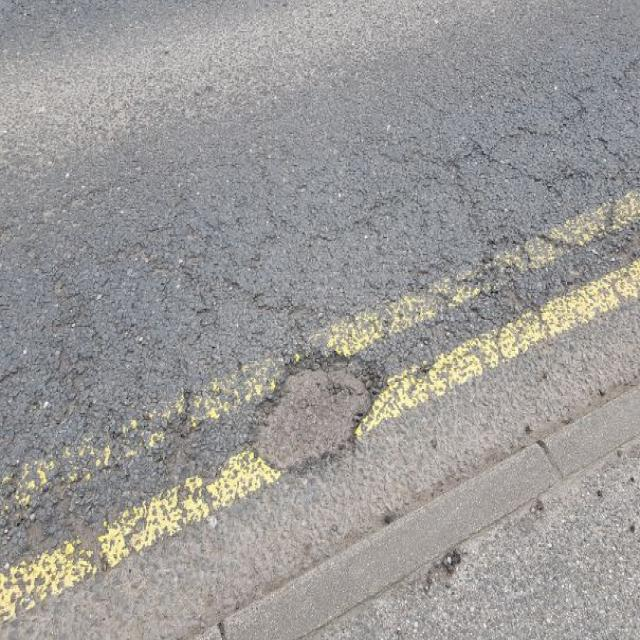Pothole: (243, 346, 384, 476)
